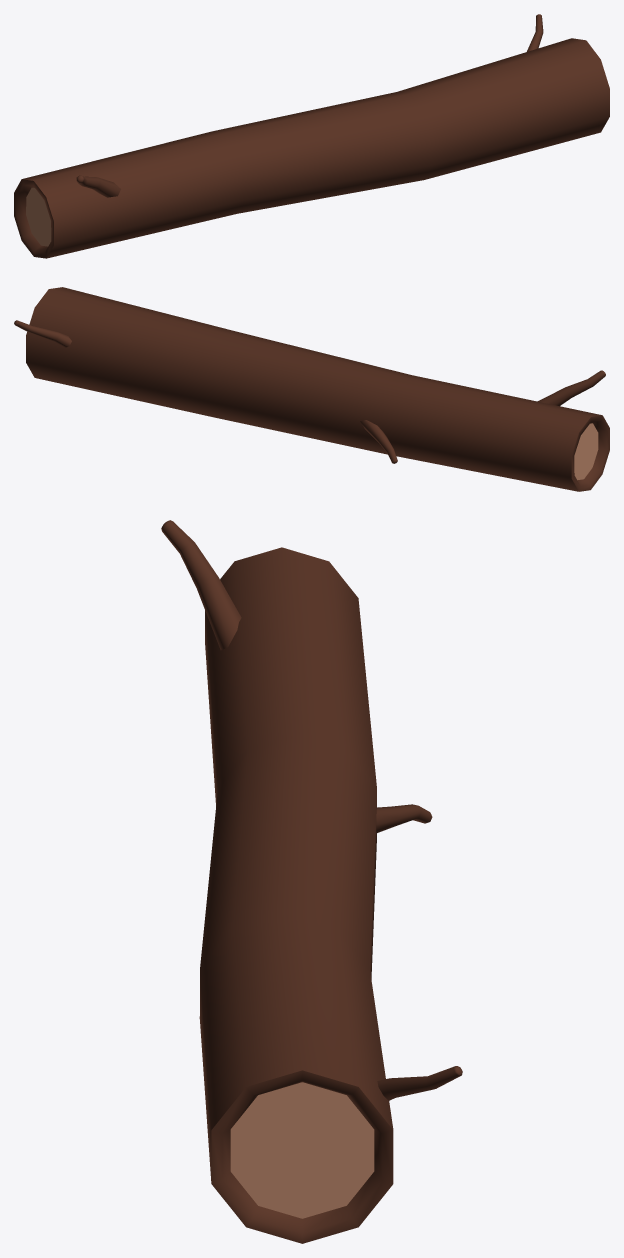
File: Log1.fbx
3 views of the same model, one above another, from view 1: azimuth 30°, elevation 25°; view 2: azimuth 150°, elevation 25°; view 3: azimuth 270°, elevation 25° (orthographic). The views are drawn at different scales.
Parts seen in each view (by area): view 1: trunk; view 2: trunk; view 3: trunk.
Part boxes in pixels (left/top/right/bottom): trunk: left=14, top=14, right=609, bottom=258; trunk: left=14, top=287, right=609, bottom=491; trunk: left=161, top=520, right=462, bottom=1243.
Bounding box in the file's own units: 704 × 135 × 171.
